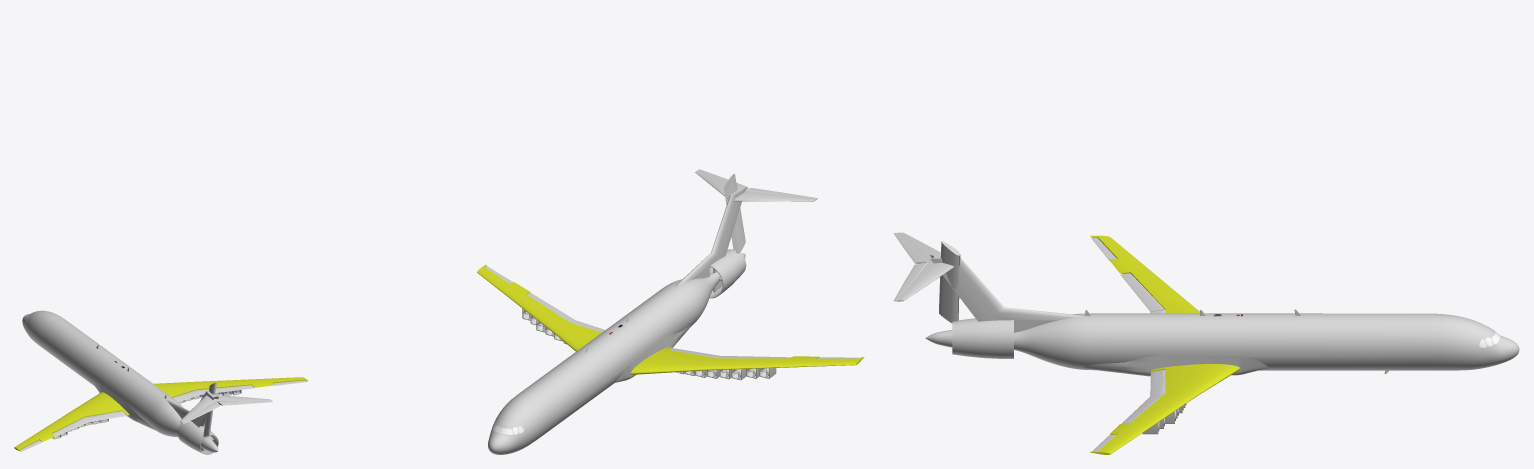
Rendered from wingboxHighlighted1.gltf.
3 renders of one model, left to right at view 1: azimuth 30°, elevation 25°; view 2: azimuth 150°, elevation 25°; view 3: azimuth 270°, elevation 25°, orthographic. The views are drawn at different scales.
Visible parts, largest first — view 1: Cylinder, Cylinder.004, Cylinder.001, Cylinder.006, Cylinder.005; view 2: Cylinder, Cylinder.004, Cylinder.005, Cylinder.001, Cylinder.006, Cylinder.007; view 3: Cylinder, Cylinder.004, Cylinder.005, Cylinder.001, Cylinder.007, Cylinder.006.
Boxes of the visible parts, x1,y1,x2,y2 form: Cylinder: (22, 310, 218, 452); Cylinder.004: (14, 377, 308, 451); Cylinder.001: (177, 420, 218, 454); Cylinder.006: (180, 395, 271, 423); Cylinder.005: (166, 390, 218, 427); Cylinder: (488, 253, 745, 454); Cylinder.004: (477, 264, 864, 374); Cylinder.005: (678, 186, 746, 284); Cylinder.001: (709, 249, 746, 298); Cylinder.006: (695, 170, 816, 201); Cylinder.007: (724, 173, 745, 253); Cylinder: (925, 313, 1519, 376); Cylinder.004: (1090, 235, 1240, 454); Cylinder.005: (930, 255, 1081, 332); Cylinder.001: (952, 318, 1013, 358); Cylinder.007: (939, 241, 960, 323); Cylinder.006: (897, 232, 953, 301).
Size of the model in its own units: 34.84 by 34.67 by 42.54.
